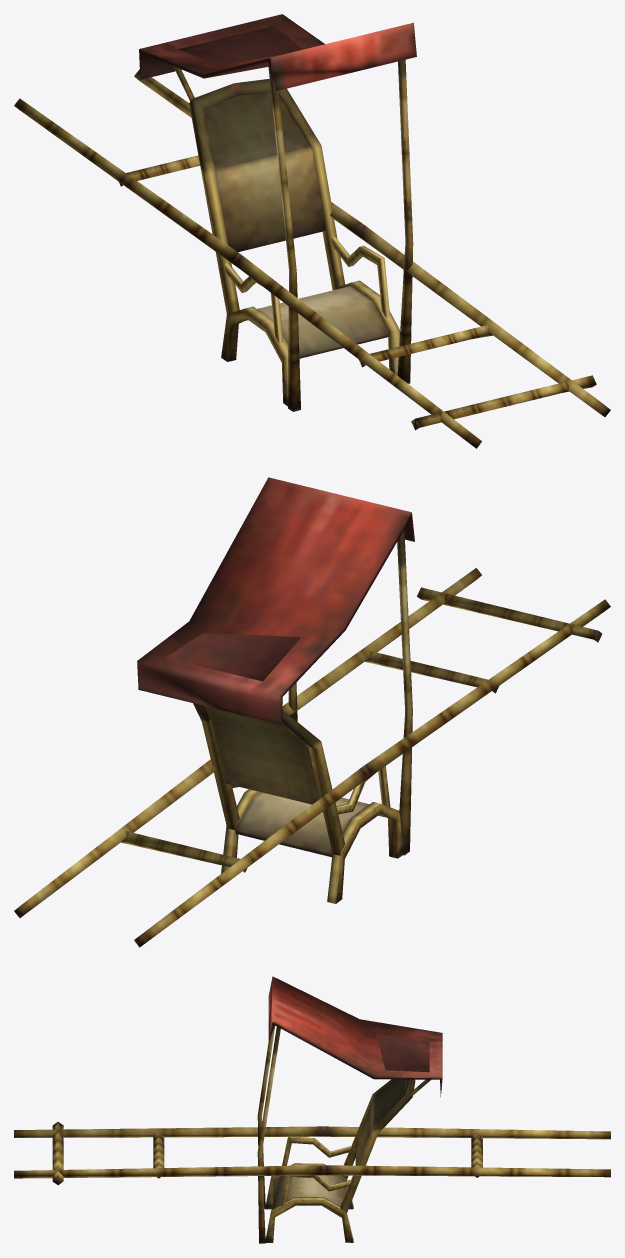
File: b_general_obj_09.fbx
The picture shows the model from 3 angles, top to bottom: view 1: azimuth 30°, elevation 25°; view 2: azimuth 150°, elevation 25°; view 3: azimuth 270°, elevation 25°; orthographic projection. The views are drawn at different scales.
Visible parts, largest first — view 1: Object05; view 2: Object05; view 3: Object05.
Part boxes in pixels (box(x1,y1,x2,y2)): Object05: box(14, 14, 610, 448); Object05: box(14, 477, 610, 947); Object05: box(14, 976, 610, 1243).
Size of the model in its own units: 1.24 by 2.34 by 5.59.
